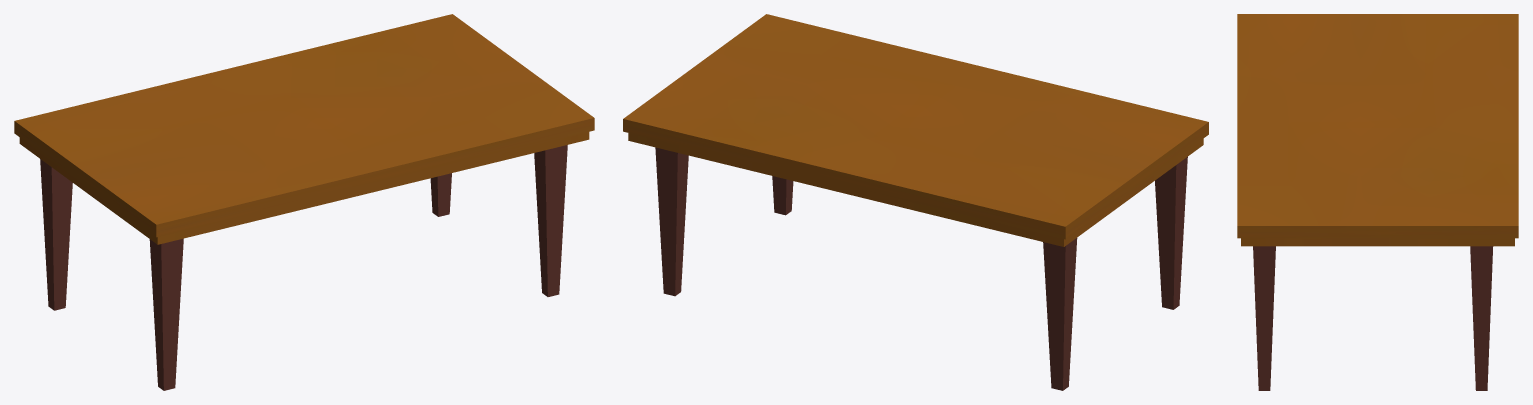
The model's file is Desk.FBX.
The picture shows the model from 3 angles, left to right: view 1: azimuth 30°, elevation 25°; view 2: azimuth 150°, elevation 25°; view 3: azimuth 270°, elevation 25°; orthographic projection.
Parts seen in each view (by area): view 1: Desk; view 2: Desk; view 3: Desk.
Boxes of the visible parts, x1,y1,x2,y2 form: Desk: [14, 14, 594, 390]; Desk: [623, 14, 1208, 390]; Desk: [1237, 14, 1518, 390].
Size of the model in its own units: 152 by 59.32 by 85.47.
Materials: 1 (1 with a texture image).
